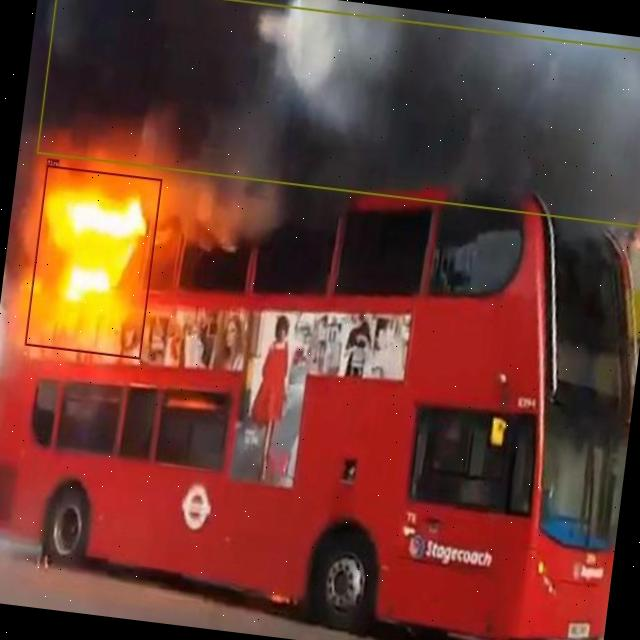fire: (24, 164, 161, 358)
smoke: (35, 0, 640, 227)
